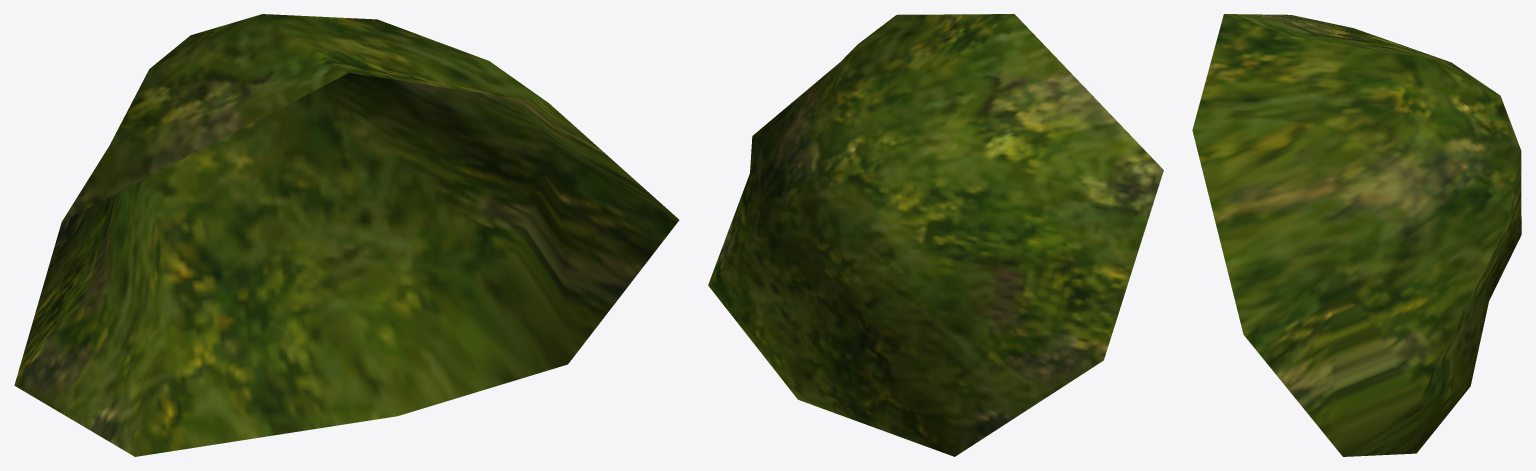
File: OVERHILL_A_01_BR_ROCK203.fbx
3 views of the same model, side by side, from view 1: azimuth 30°, elevation 25°; view 2: azimuth 150°, elevation 25°; view 3: azimuth 270°, elevation 25° (orthographic). The views are drawn at different scales.
Parts seen in each view (by area): view 1: OVERHILL_A_01_BR_ROCK203; view 2: OVERHILL_A_01_BR_ROCK203; view 3: OVERHILL_A_01_BR_ROCK203.
Part boxes in pixels (left/top/right/bottom): OVERHILL_A_01_BR_ROCK203: left=14, top=14, right=679, bottom=456; OVERHILL_A_01_BR_ROCK203: left=708, top=14, right=1163, bottom=456; OVERHILL_A_01_BR_ROCK203: left=1192, top=14, right=1521, bottom=456.
Bounding box in the file's own units: 11139 × 8618 × 6860.
Materials: 1 (1 with a texture image).
